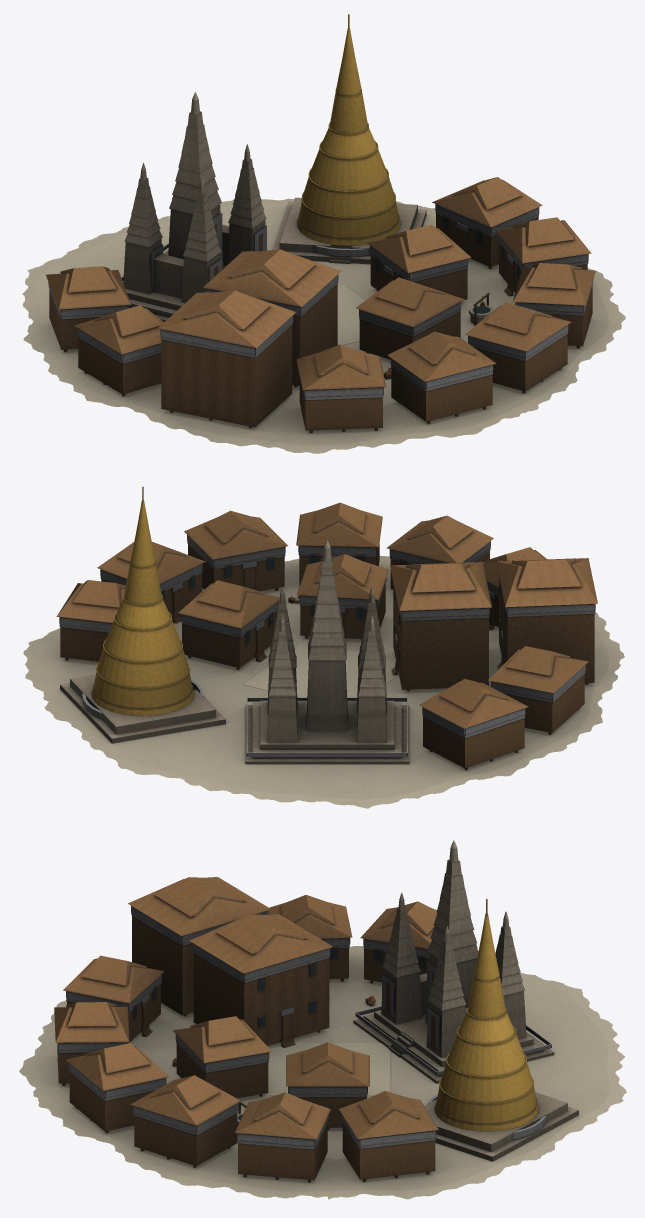
File: kingdoms-town-medium-a-monsoon.glb
3 renders of one model, top to bottom at view 1: azimuth 30°, elevation 25°; view 2: azimuth 150°, elevation 25°; view 3: azimuth 270°, elevation 25°, orthographic.
Parts seen in each view (by area): view 1: LOD0; view 2: LOD0; view 3: LOD0.
Part boxes in pixels (box(x1,y1,x2,y2)): LOD0: box(22, 14, 625, 453); LOD0: box(23, 486, 624, 808); LOD0: box(19, 840, 626, 1199).
Size of what is drawn, in the model's own units: 5.93 by 2.4 by 5.94.
Materials: 3 (3 with a texture image).
